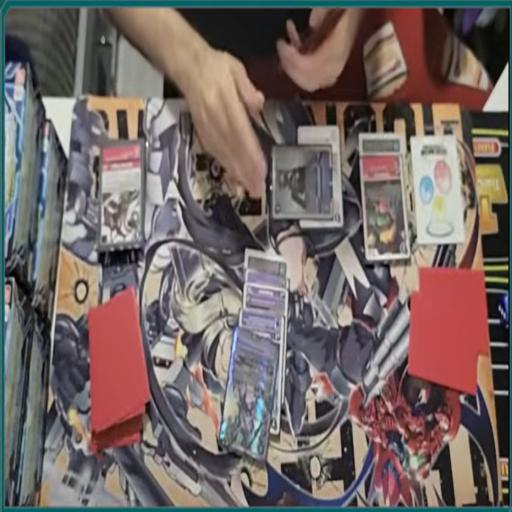card: (219, 337, 281, 460), (98, 135, 145, 251), (359, 156, 405, 269), (271, 146, 333, 220), (297, 122, 342, 223), (236, 307, 284, 350), (242, 246, 288, 282), (244, 285, 288, 316), (244, 268, 292, 296), (360, 128, 403, 156)
